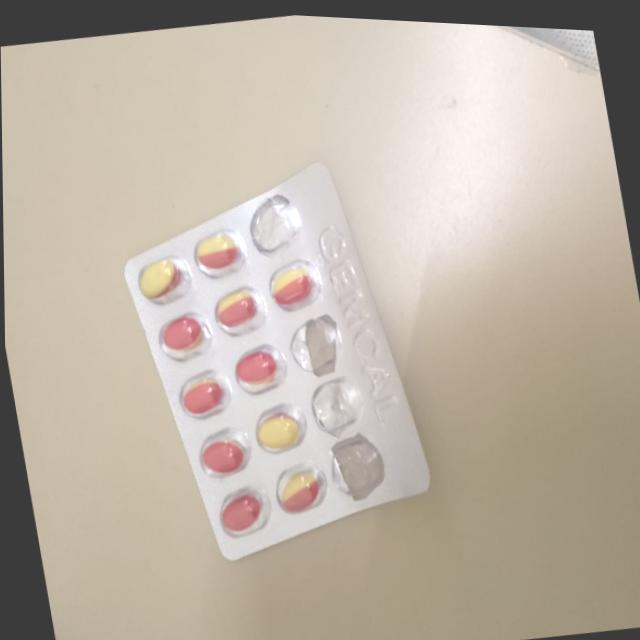medicine: (82, 115, 462, 572)
